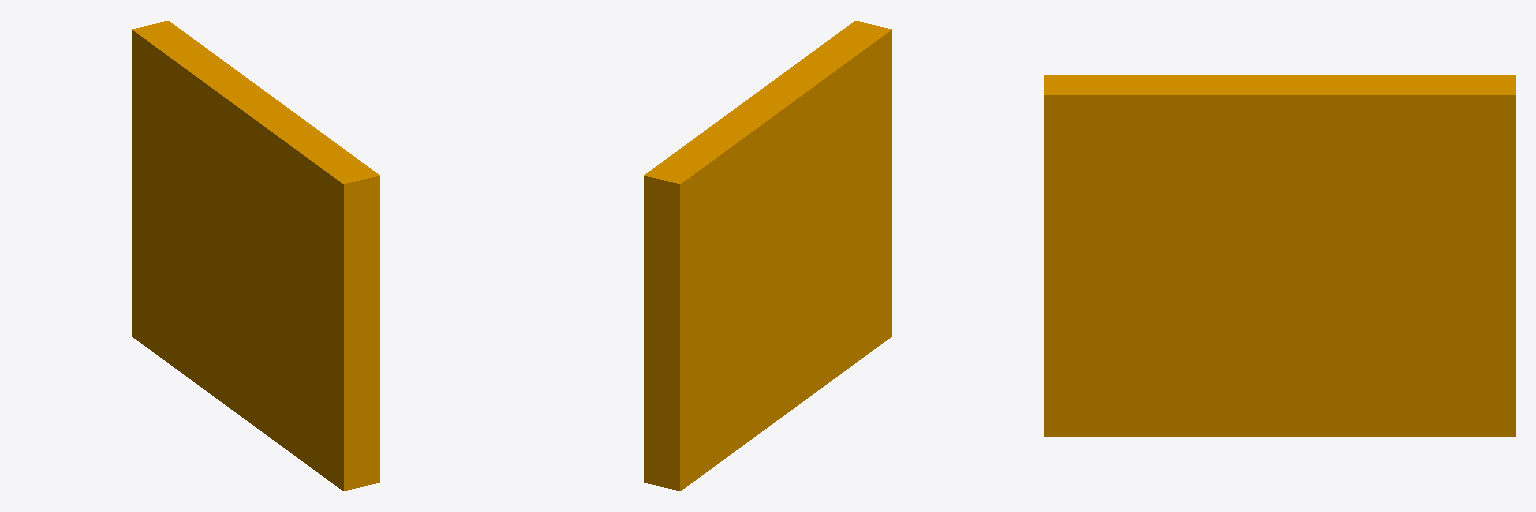
robot.urdf — simple_box:
<robot name="simple_box">
  <link name="my_box">
    <inertial>
      <origin xyz="0.7 0 0.56" />
      <mass value="1.0" />
      <inertia  ixx="1.0" ixy="0.0"  ixz="0.0"  iyy="100.0"  iyz="0.0"  izz="1.0" />
    </inertial>
    <visual>
      <origin xyz="0.7 0 0.56"/>
      <geometry>
        <box size="0.50 5.00 4.00" />
      </geometry>
    </visual>
    <collision>
      <origin xyz="0.7 0 0.56"/>
      <geometry>
        <box size="0.02 0.02 0.02" />
      </geometry>
    </collision>
  </link>
  <gazebo reference="my_box">
    <material>Gazebo/Blue</material>
  </gazebo>
</robot>

--- Render facts (derived) ---
Views: 3 orthographic renders of the robot side by side, from view 1: azimuth 30°, elevation 25°; view 2: azimuth 150°, elevation 25°; view 3: azimuth 270°, elevation 25°.
Model simple_box with 1 links and 0 joints (none), rooted at my_box, posed every joint at zero.
Visible links, largest first — view 1: my_box; view 2: my_box; view 3: my_box.
Link boxes in pixels (x1=…): my_box: x1=132, y1=21, x2=379, y2=490; my_box: x1=644, y1=21, x2=891, y2=490; my_box: x1=1044, y1=75, x2=1515, y2=436.
Size in the robot's own frame: 0.5 by 5 by 4 metres.
Geometry: primitives only (box / cylinder / sphere), no mesh files.